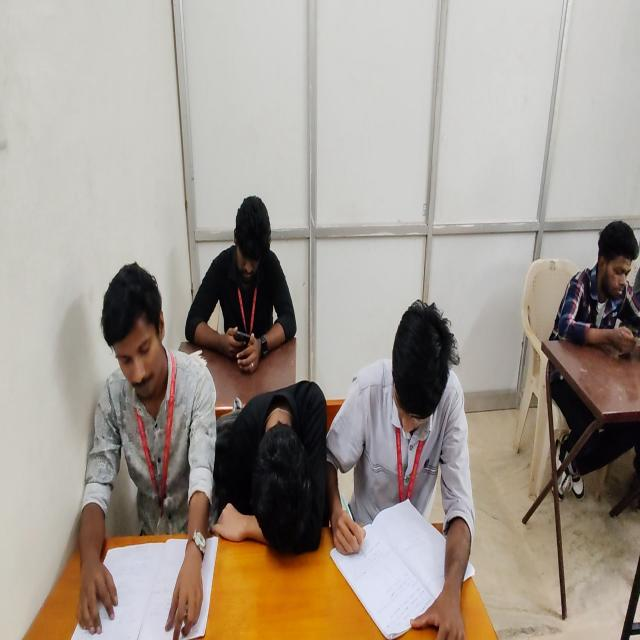reading: (78, 262, 218, 639)
sleeping: (212, 378, 326, 556)
using_mobile: (546, 218, 640, 503), (184, 194, 298, 369)
writing: (333, 300, 470, 640)
